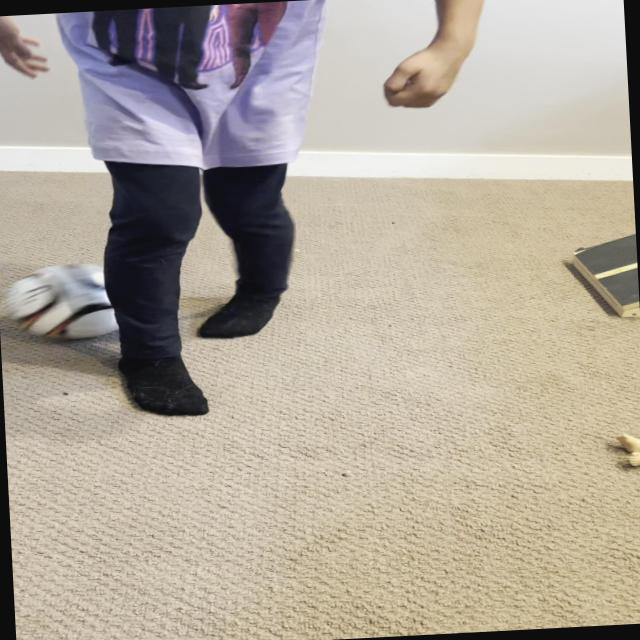Soccer Ball: (7, 260, 142, 342)
